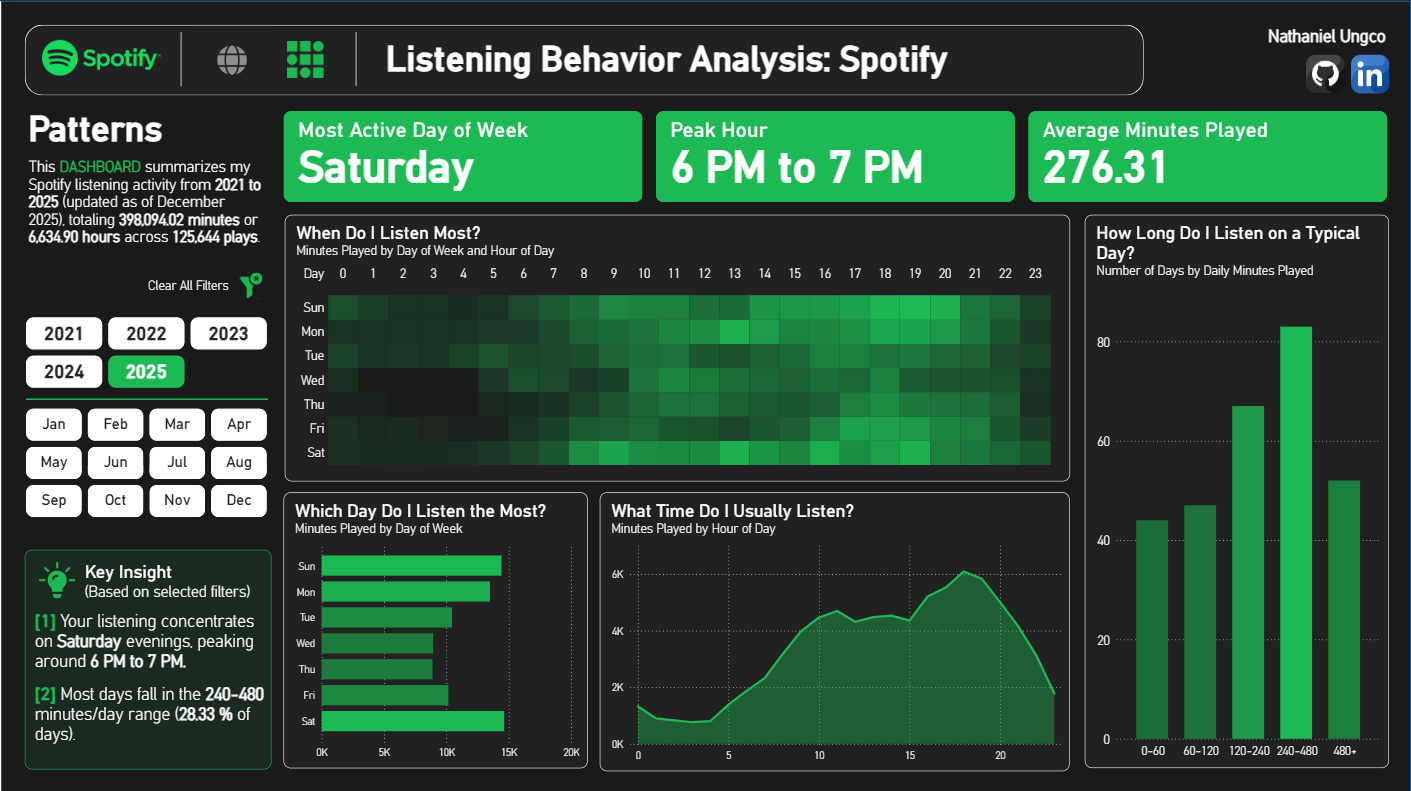

The dashboard page shown, as its layout file describes it:
{"tool":"powerbi","page":{"name":"Patterns","canvas":[1920,1080],"ordinal":1},"visuals":[{"type":"shape","box":[0,0,1920,1080],"z":0},{"type":"shape","box":[32.4,32.4,1524.1,96.3],"z":1000},{"type":"cardVisual","fields":{"Data":["Streaming History.Most Active Day","Streaming History.Peak Hour Range","DailyListening.Average Minutes Played"]},"box":[385.2,150.4,1505.9,124.7],"z":2000},{"type":"image","box":[51,29.4,172.5,96.1],"z":3000},{"type":"shape","box":[33,746.5,335.7,299],"z":4000},{"type":"textbox","box":[108.1,759.4,260.5,82.7],"z":5000},{"type":"shape","box":[94.5,42,300,73.5],"z":6000},{"type":"image","box":[40.6,749.4,71.6,79],"z":7000},{"type":"textbox","box":[40.6,825.8,328,240.6],"z":8000},{"type":"textbox","box":[100,100,300,51],"z":9000},{"type":"shape","box":[420.6,42.1,126.3,73.2],"z":10000},{"type":"actionButton","box":[364.1,34.6,100.3,90.8],"z":11000},{"type":"actionButton","box":[263.1,35.3,101,89.8],"z":12000},{"type":"pivotTable","title":"When Do I Listen Most?","fields":{"Values":["Sum(Streaming History.Minutes Played)"],"Columns":["Streaming History.Hour"],"Rows":["Streaming History.Day Name"]},"box":[387,291.6,1069.4,363.2],"z":13000},{"type":"clusteredBarChart","title":"Which Day Do I Listen the Most?","fields":{"Category":["Streaming History.Day Name"],"Y":["Sum(Streaming History.Minutes Played)"]},"box":[385.3,669.2,414.7,376.3],"z":14000},{"type":"textbox","box":[32.3,129.2,334.2,97.5],"z":15000},{"type":"textbox","box":[519.6,33.3,792.2,96.1],"z":16000},{"type":"lineChart","title":"What Time Do I Usually Listen?","fields":{"Category":["Streaming History.Hour"],"Y":["Sum(Streaming History.Minutes Played)"]},"box":[816.2,669.5,640.2,379.7],"z":17000},{"type":"textbox","box":[32.7,212.7,330.9,183.6],"z":18000},{"type":"clusteredColumnChart","title":"How Long Do I Listen on a Typical Day?","fields":{"Category":["DailyListening.DailyMinutes Bucket"],"Y":["CountNonNull(DailyListening.Date)"]},"box":[1476.6,291.6,414.5,753.9],"z":19000},{"type":"shape","box":[33.8,493,329.7,97.3],"z":20000},{"type":"advancedSlicerVisual","fields":{"Values":["Streaming History.Year"]},"box":[33.8,431,330,97.5],"z":22000},{"type":"advancedSlicerVisual","fields":{"Values":["Streaming History.Month Name"]},"box":[34.9,555,328.3,150.4],"z":23000},{"type":"actionButton","box":[1839.2,72.9,51.8,52.4],"z":25000},{"type":"textbox","box":[1618.6,29.7,272,50],"z":26000},{"type":"actionButton","box":[183.4,363.2,179.8,49.5],"z":27000},{"type":"actionButton","box":[1776.5,72.9,52.4,51.8],"z":28000}]}

Visuals, with their boxes in screenshot pixels (x1, y1, x2, y2), scaled from the page's 1920x1080 canvas onto the 1411x791 screenshot:
shape: bbox=(0, 0, 1410, 790)
shape: bbox=(24, 24, 1144, 94)
cardVisual - Streaming History.Most Active Day x Streaming History.Peak Hour Range: bbox=(283, 110, 1390, 201)
image: bbox=(37, 22, 164, 92)
shape: bbox=(24, 547, 271, 766)
textbox: bbox=(79, 556, 271, 617)
shape: bbox=(69, 31, 290, 85)
image: bbox=(30, 549, 82, 607)
textbox: bbox=(30, 605, 271, 781)
textbox: bbox=(73, 73, 294, 111)
shape: bbox=(309, 31, 402, 84)
actionButton: bbox=(268, 25, 341, 92)
actionButton: bbox=(193, 26, 268, 92)
"When Do I Listen Most?" pivotTable: bbox=(284, 214, 1070, 480)
"Which Day Do I Listen the Most?" clusteredBarChart: bbox=(283, 490, 588, 766)
textbox: bbox=(24, 95, 269, 166)
textbox: bbox=(382, 24, 964, 95)
"What Time Do I Usually Listen?" lineChart: bbox=(600, 490, 1070, 768)
textbox: bbox=(24, 156, 267, 290)
"How Long Do I Listen on a Typical Day?" clusteredColumnChart: bbox=(1085, 214, 1390, 766)
shape: bbox=(25, 361, 267, 432)
advancedSlicerVisual - Streaming History.Year: bbox=(25, 316, 267, 387)
advancedSlicerVisual - Streaming History.Month Name: bbox=(26, 406, 267, 517)
actionButton: bbox=(1352, 53, 1390, 92)
textbox: bbox=(1190, 22, 1389, 58)
actionButton: bbox=(135, 266, 267, 302)
actionButton: bbox=(1306, 53, 1344, 91)
